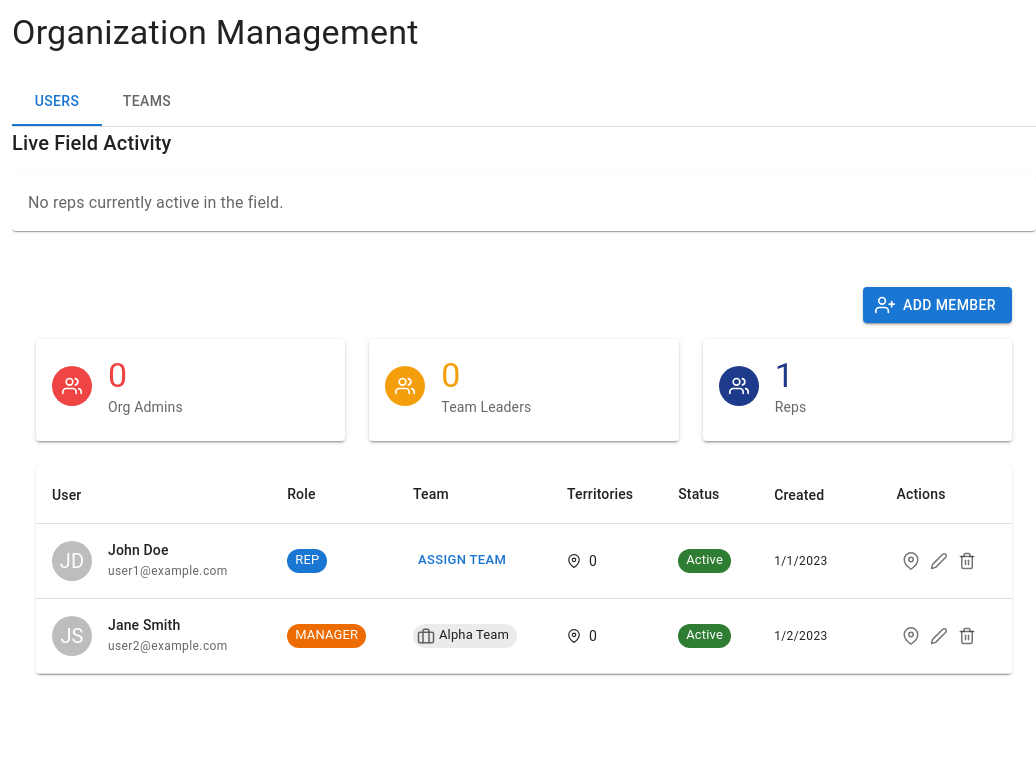
Test: TeamManagement Component › loads and displays teams when tab is switched
Click the tab "Teams" at x=147, y=102, box [102,78,192,126]
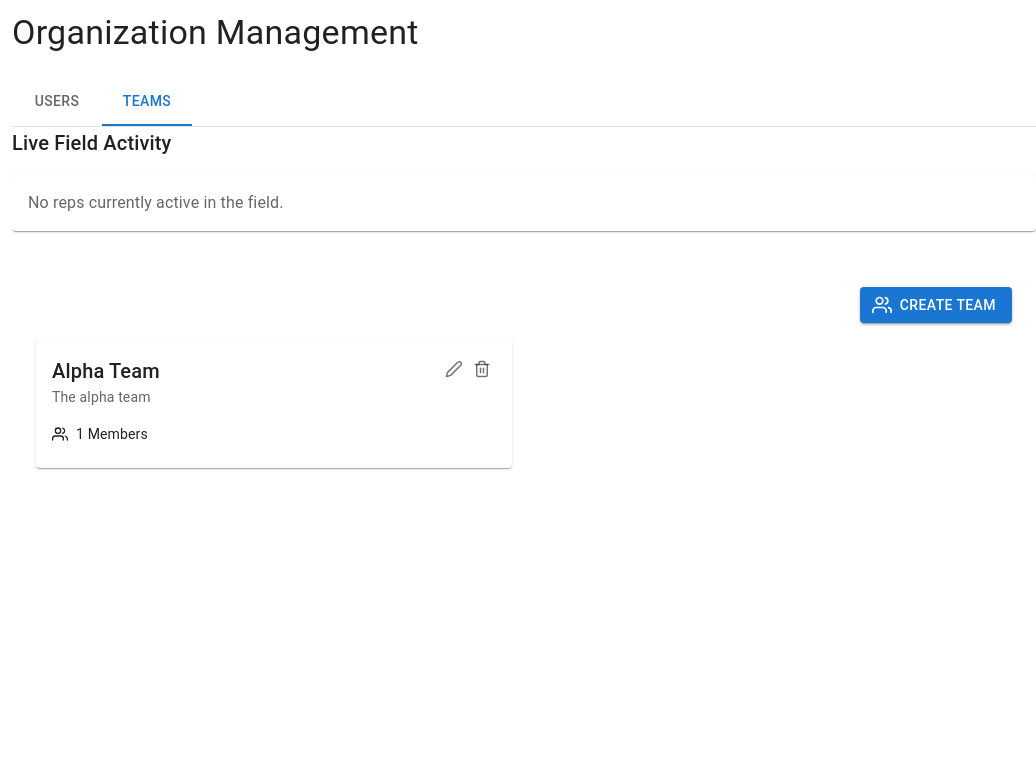
Result: the heading "Alpha Team" is shown at [52,356,160,388]
Result: the text "The alpha team" is shown at [52,390,151,406]
